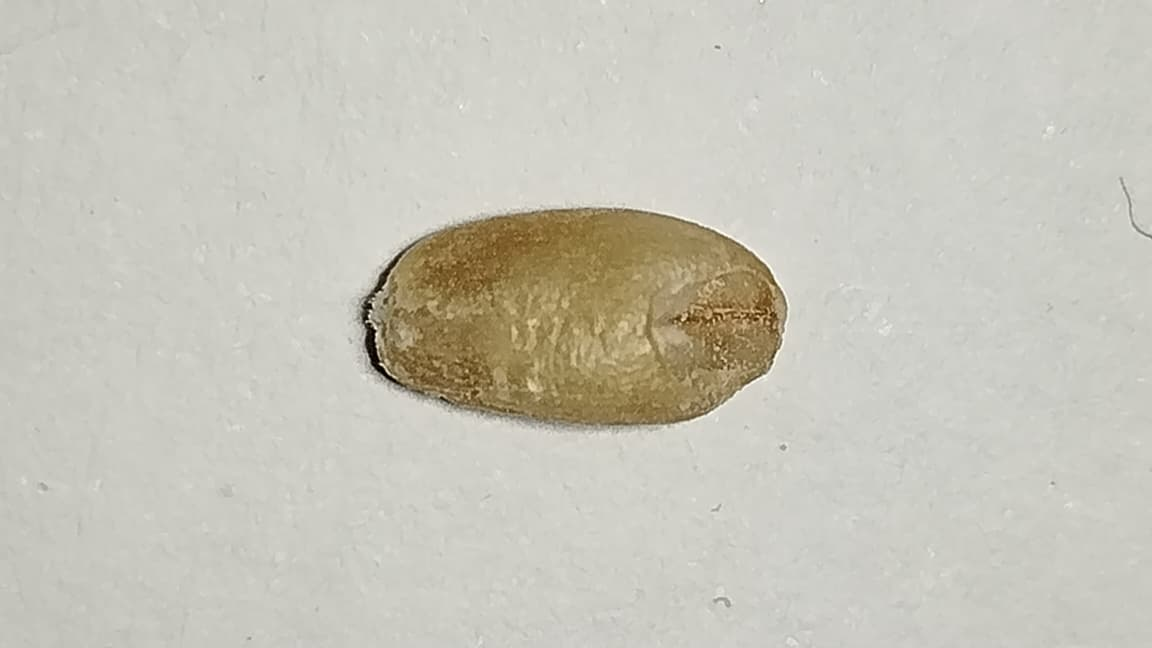damage: (366, 209, 786, 422)
insectdamage: (637, 254, 777, 383)
